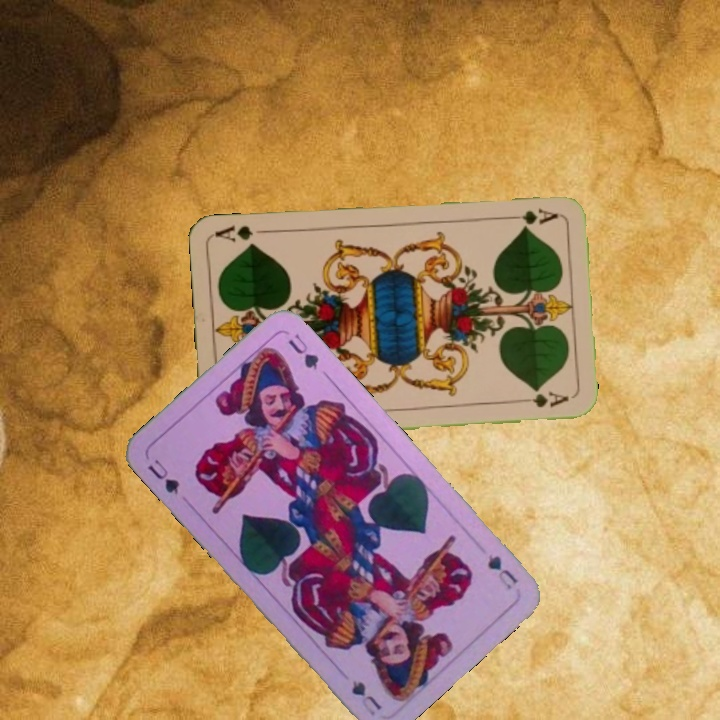GA: (503, 204, 560, 231)
GU: (143, 455, 182, 497), (483, 550, 521, 592)
